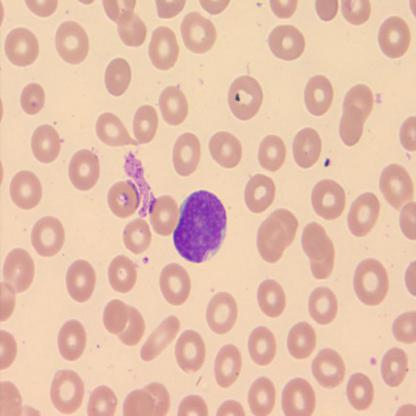Blast: (172, 188, 230, 266)
